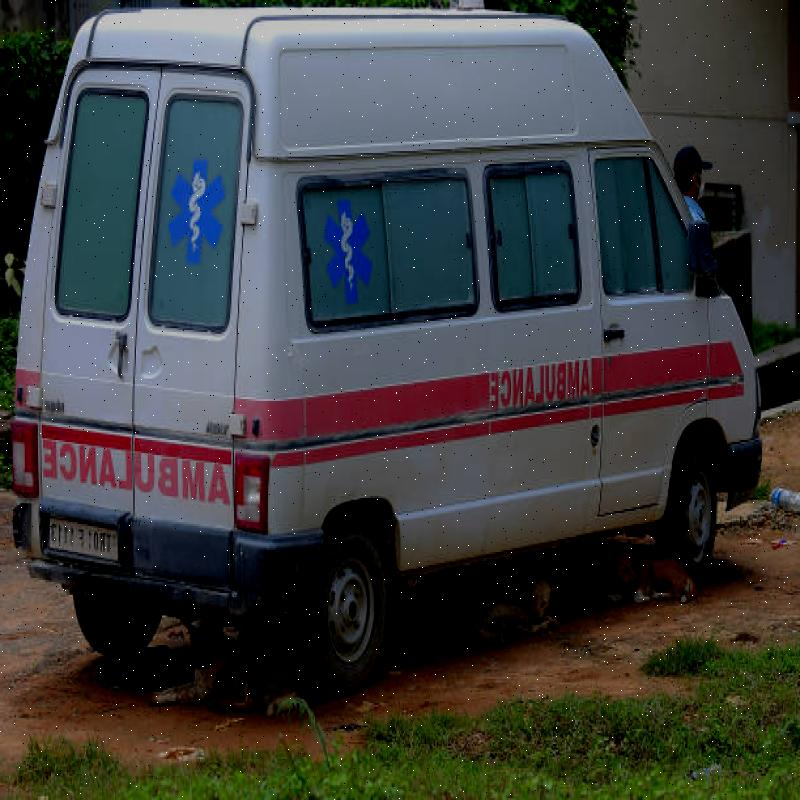ambulance: (0, 1, 780, 690)
